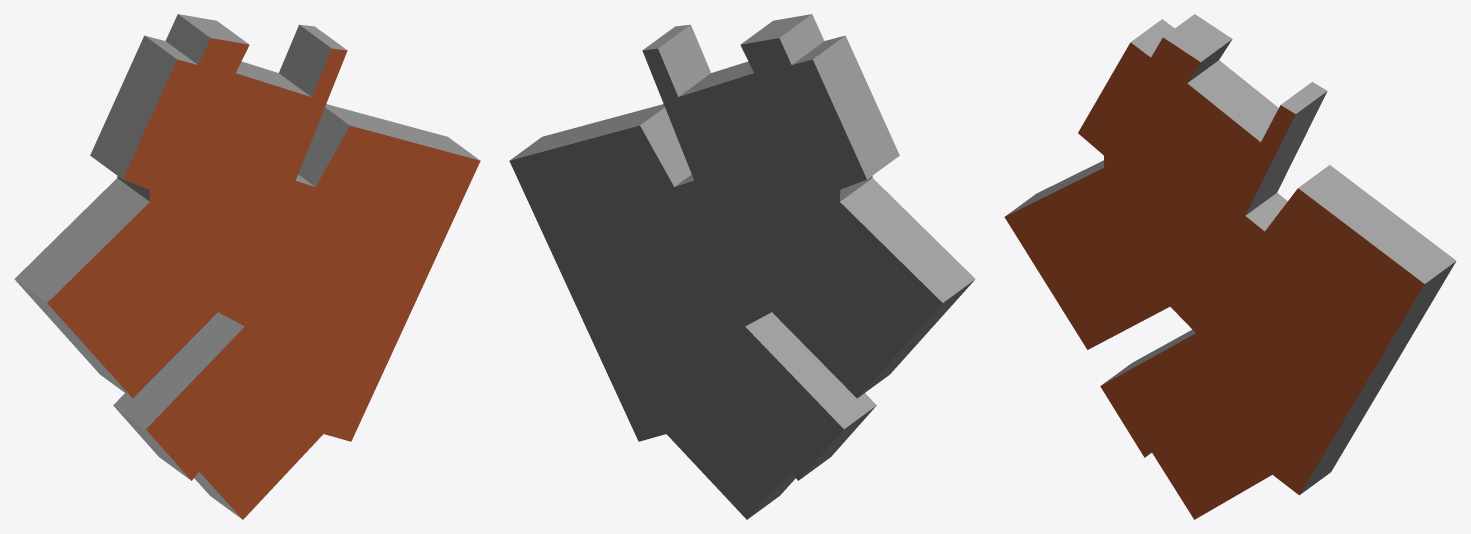
The model's file is construction_4826_assumed_A_Casa_h6m.obj.
3 views of the same model, side by side, from view 1: azimuth 30°, elevation 25°; view 2: azimuth 150°, elevation 25°; view 3: azimuth 330°, elevation 25° (orthographic). The views are drawn at different scales.
Parts seen in each view (by area): view 1: construction_4826_assumed_A_Casa; view 2: construction_4826_assumed_A_Casa; view 3: construction_4826_assumed_A_Casa.
Boxes of the visible parts, box(x1,y1,x2,y2) form: construction_4826_assumed_A_Casa: box(14, 14, 480, 519); construction_4826_assumed_A_Casa: box(509, 14, 975, 519); construction_4826_assumed_A_Casa: box(1004, 14, 1456, 519).
Bounding box in the file's own units: 45.77 × 49.42 × 6.
